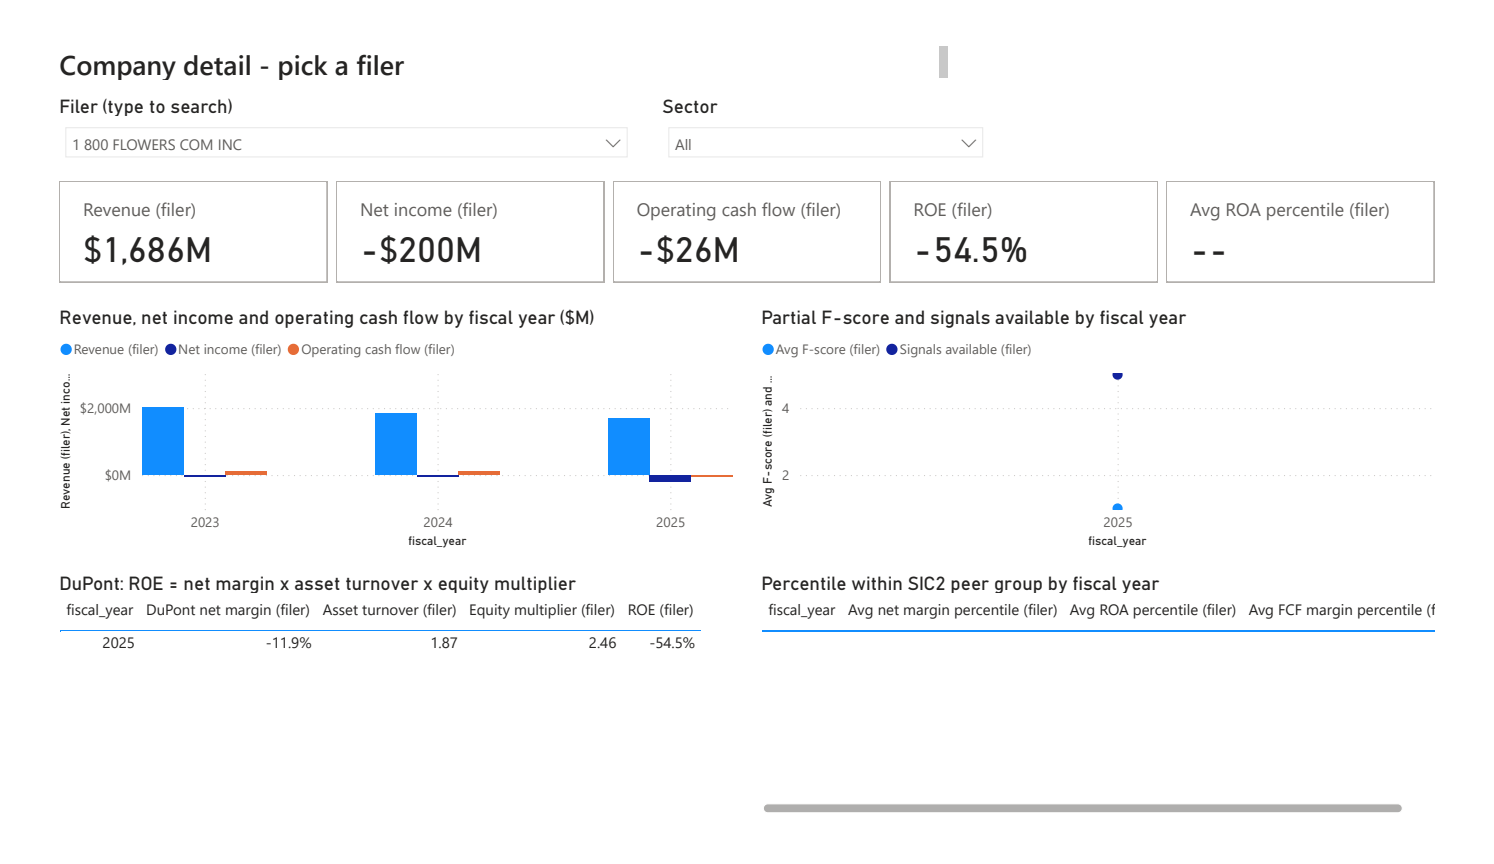

This screenshot's page, from the dashboard's own definition file:
{"tool":"powerbi","page":{"name":"Company detail","canvas":[1280,720],"ordinal":1},"visuals":[{"type":"textbox","box":[24,12,800,40],"z":0},{"type":"slicer","title":"Filer (type to search)","fields":{"Values":["dim_company.filer_name"]},"box":[24,60,520,60],"z":1000},{"type":"slicer","title":"Sector","fields":{"Values":["dim_company.sector"]},"box":[560,60,300,60],"z":1000},{"type":"cardVisual","fields":{"Data":["_Measures.Revenue (filer)","_Measures.Net income (filer)","_Measures.Operating cash flow (filer)","_Measures.ROE (filer)","_Measures.Avg ROA percentile (filer)"]},"box":[24,132,1232,100],"z":1000},{"type":"clusteredColumnChart","title":"Revenue, net income and operating cash flow by fiscal year ($M)","fields":{"Category":["dim_fiscal_year.fiscal_year"],"Y":["_Measures.Revenue (filer)","_Measures.Net income (filer)","_Measures.Operating cash flow (filer)"]},"box":[24,248,608,220],"z":1000},{"type":"lineChart","title":"Partial F-score and signals available by fiscal year","fields":{"Category":["dim_fiscal_year.fiscal_year"],"Y":["_Measures.Avg F-score (filer)","_Measures.Signals available (filer)"]},"box":[648,248,608,220],"z":1000},{"type":"tableEx","title":"DuPont: ROE = net margin x asset turnover x equity multiplier","fields":{"Values":["dim_fiscal_year.fiscal_year","_Measures.DuPont net margin (filer)","_Measures.Asset turnover (filer)","_Measures.Equity multiplier (filer)","_Measures.ROE (filer)"]},"box":[24,484,608,220],"z":1000},{"type":"tableEx","title":"Percentile within SIC2 peer group by fiscal year","fields":{"Values":["dim_fiscal_year.fiscal_year","_Measures.Avg net margin percentile (filer)","_Measures.Avg ROA percentile (filer)","_Measures.Avg FCF margin percentile (filer)"]},"box":[648,484,608,220],"z":1000}]}

Visuals, with their boxes in screenshot pixels (x1, y1, x2, y2), scaled from the page's 1280x720 canvas onto the 1494x864 screenshot:
textbox: detection(28, 14, 962, 62)
"Filer (type to search)" slicer: detection(28, 72, 635, 144)
"Sector" slicer: detection(654, 72, 1004, 144)
cardVisual - _Measures.Revenue (filer) x _Measures.Net income (filer): detection(28, 158, 1466, 278)
"Revenue, net income and operating cash flow by fiscal year ($M)" clusteredColumnChart: detection(28, 298, 738, 562)
"Partial F-score and signals available by fiscal year" lineChart: detection(756, 298, 1466, 562)
"DuPont: ROE = net margin x asset turnover x equity multiplier" tableEx: detection(28, 581, 738, 845)
"Percentile within SIC2 peer group by fiscal year" tableEx: detection(756, 581, 1466, 845)
